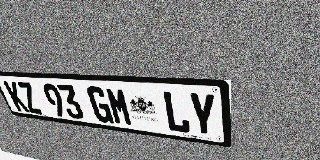3: (56, 84, 85, 120)
9: (41, 83, 69, 118)
G: (85, 86, 114, 124)
K: (3, 81, 30, 113)
L: (162, 90, 191, 134)
M: (105, 87, 134, 126)
Y: (188, 92, 217, 137)
Z: (16, 82, 43, 114)
